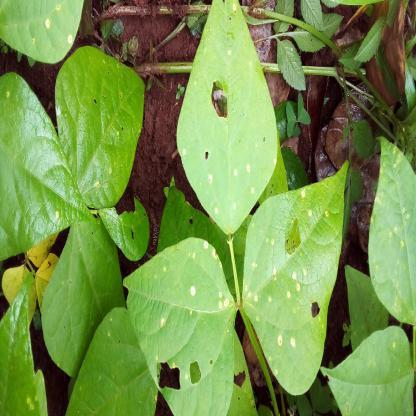Beans_Rust: (242, 159, 352, 392), (177, 0, 277, 234), (120, 240, 238, 416), (365, 135, 416, 326), (320, 326, 416, 416), (0, 267, 50, 415), (0, 0, 82, 65)
